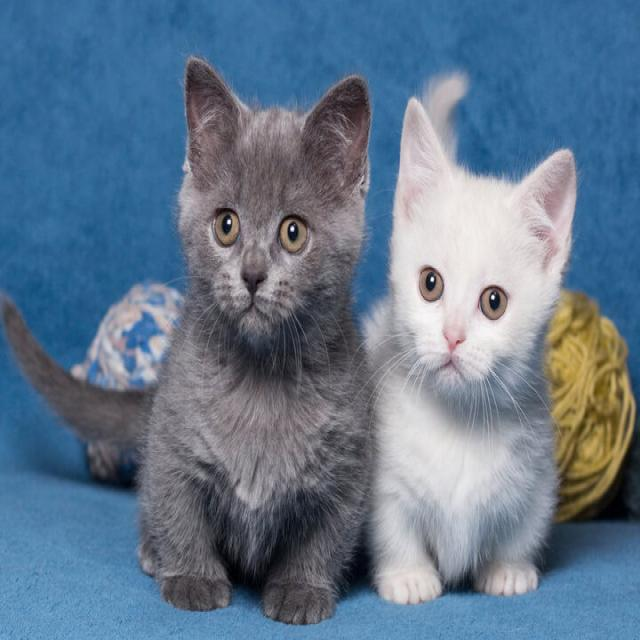Munchkin: (0, 51, 377, 628), (360, 93, 581, 612)
